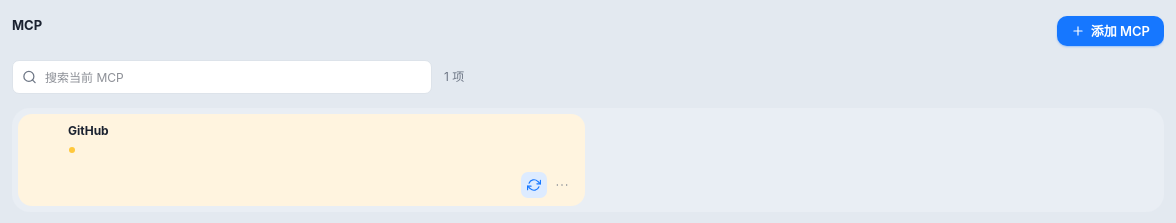
AgentConsumptionPanel › keeps one recovery action visible and moves alternatives into a compact menu
Later steps or results of the test are not shown.
Expected: the list item "GitHub" is shown, [18,114,585,206]
Expected: the element named "外部已修改" is shown, [68,147,74,153]
Click the button named "更多处理方式：" at (562, 185), box [549,172,575,198]
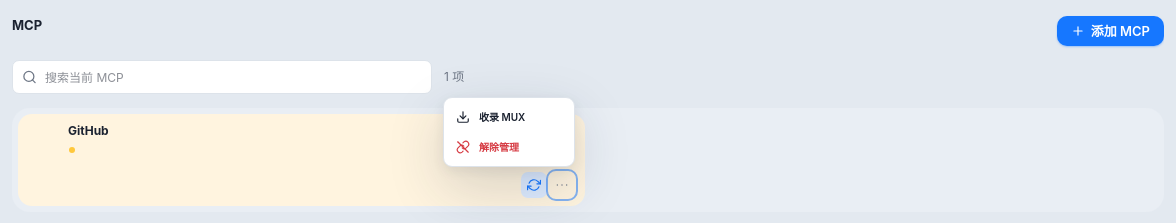
Now the menu item with aria-label "收录 MUX：" is shown, box [448,102,570,132]
Now the menu item with aria-label "解除管理：" is shown, box [448,132,570,162]
